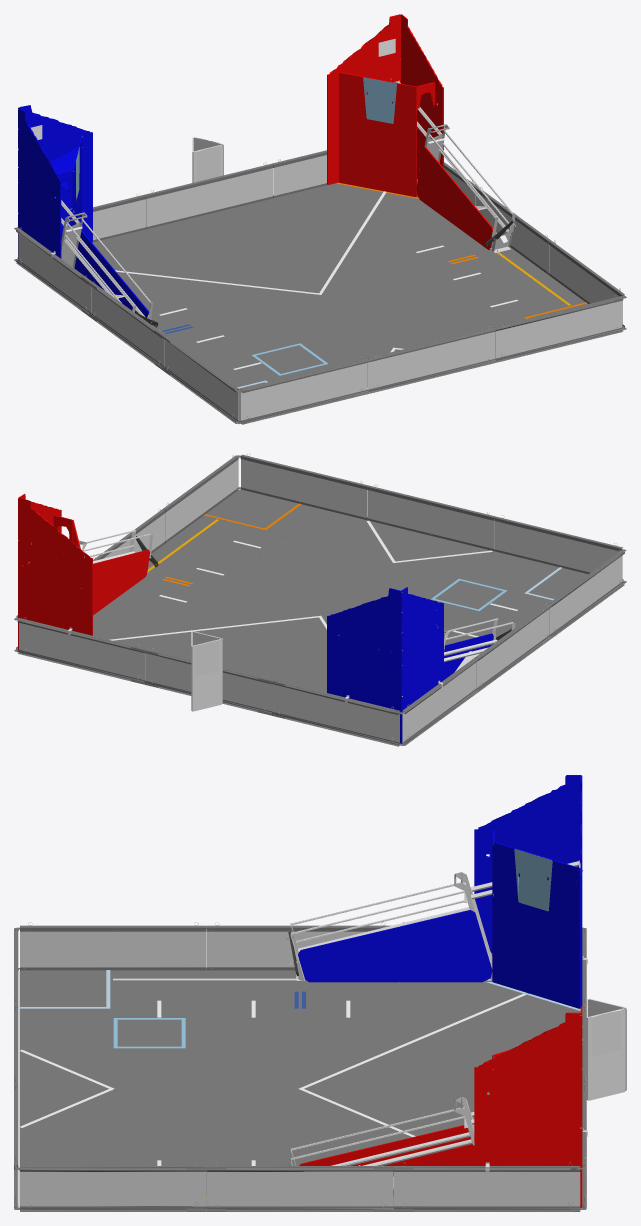
Rendered from decode-field-visual.glb.
3 renders of one model, top to bottom at view 1: azimuth 30°, elevation 25°; view 2: azimuth 150°, elevation 25°; view 3: azimuth 270°, elevation 25°, orthographic. The views are drawn at different scales.
Bounding box in the file's own units: 3.65 × 1.38 × 3.9.
